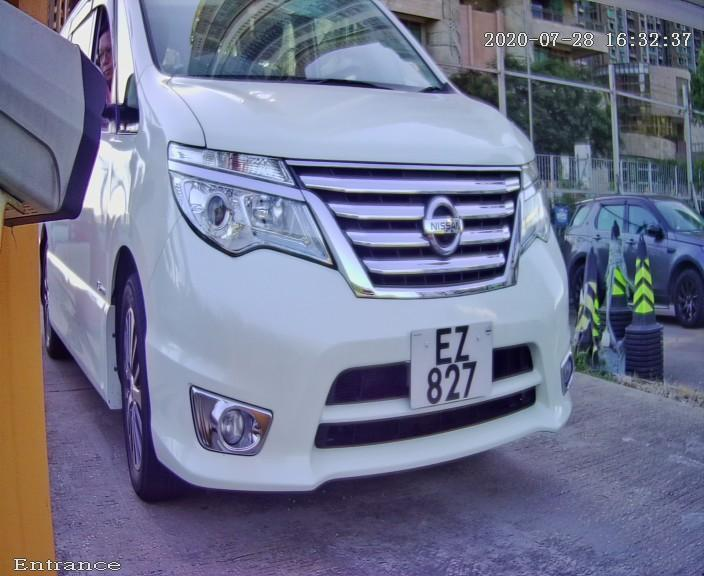privatecar: (7, 6, 679, 541)
